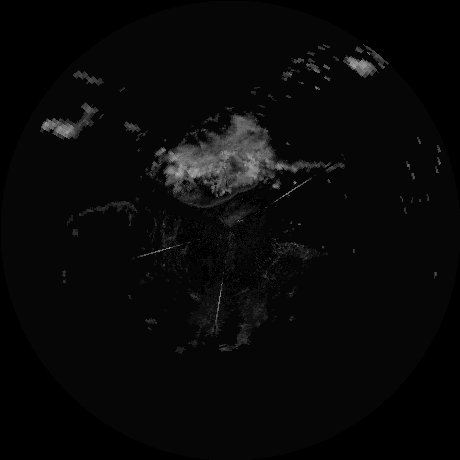frontgust: (185, 180, 265, 209)
